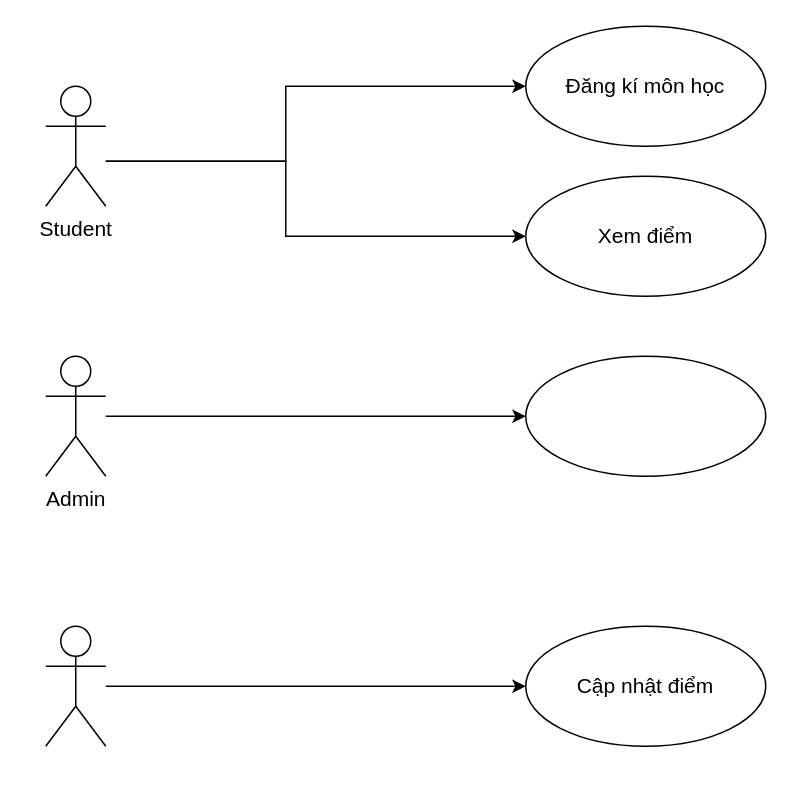
The diagram is 792 pixels wide and 809 high, and some of its shapes have lost their labels. Here are the shapes that lost their labels. From the top down, the centre of each, then its label:
At (x=645, y=415): "Quản lý lớp học".
At (x=75, y=685): "Giảng viên".
